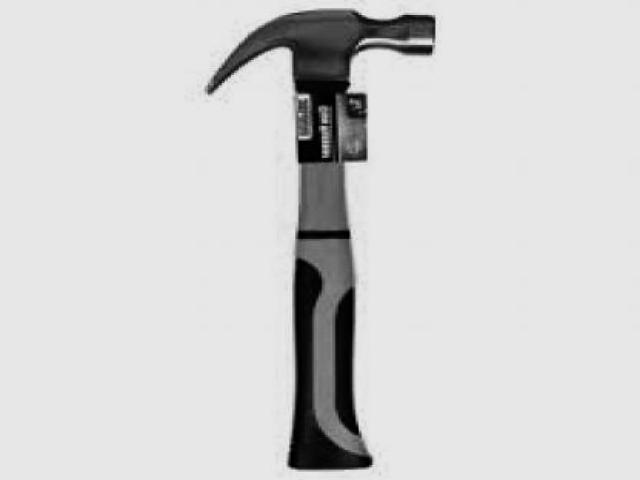Hammer: (208, 9, 435, 469)
